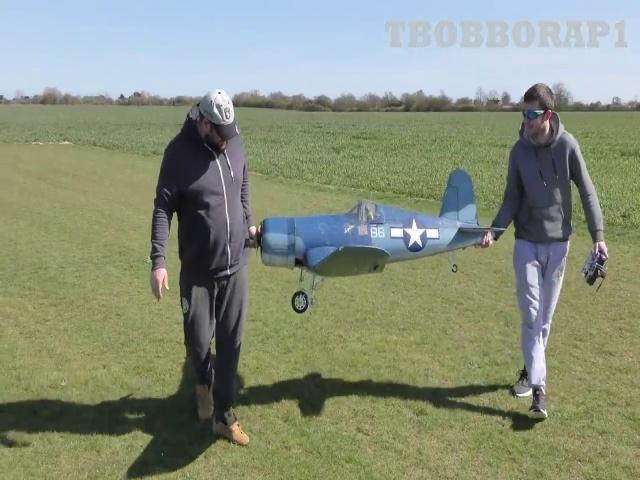Airplane: (258, 170, 508, 315)
